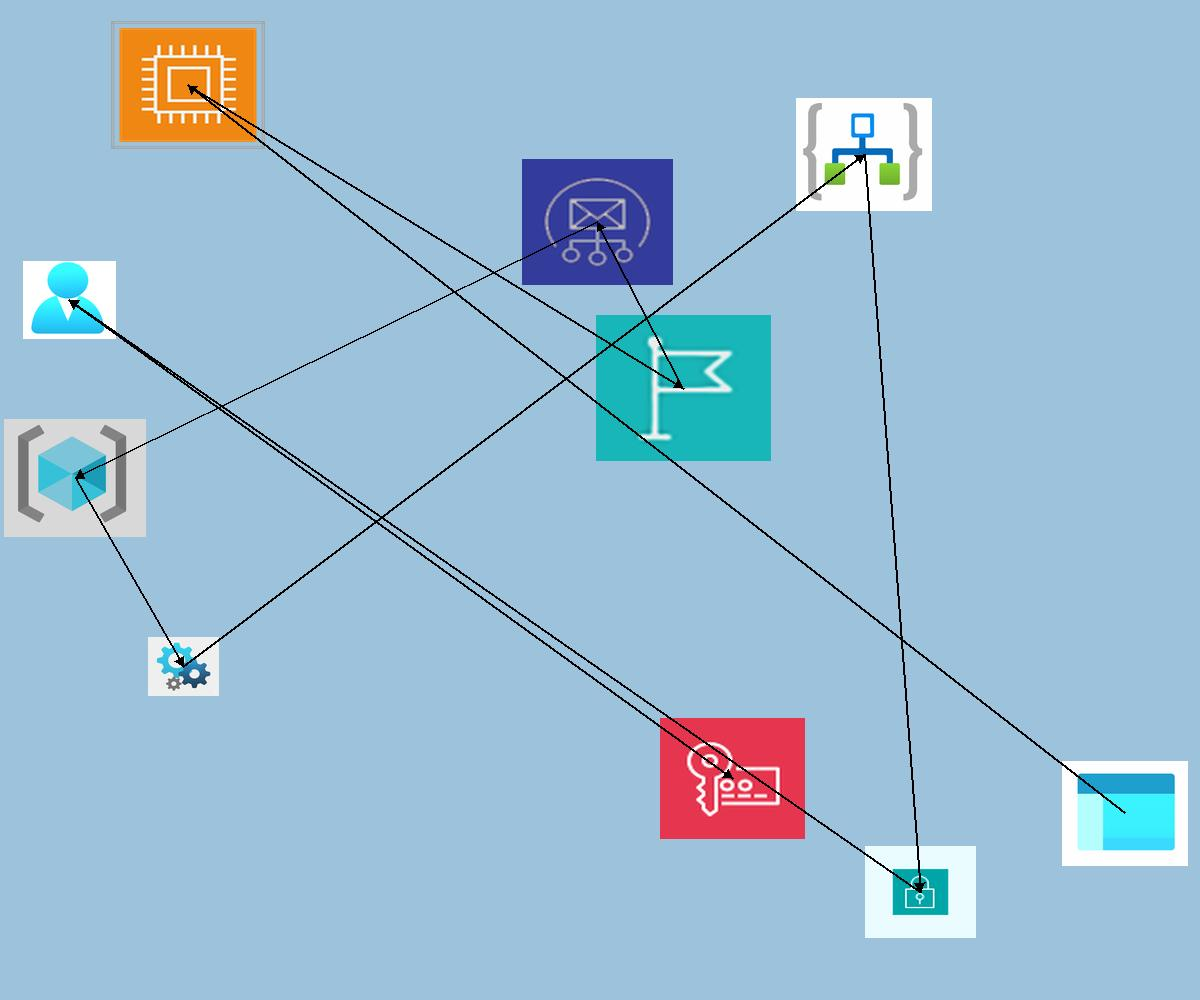AWS-Category_Compute: (111, 21, 265, 149)
AWS-Key-Management-Service: (660, 718, 805, 839)
AWS-Private-subnet: (865, 846, 976, 938)
AWS-Region: (596, 315, 771, 461)
AWS-Simple-Email-Service: (522, 159, 673, 285)
Azure_api: (148, 637, 219, 696)
Azure_integration-204-Logic-Apps: (796, 98, 932, 211)
Azure_management-portal: (1062, 761, 1188, 866)
Azure_resource_group: (4, 419, 146, 537)
Azure_users: (23, 261, 116, 339)
